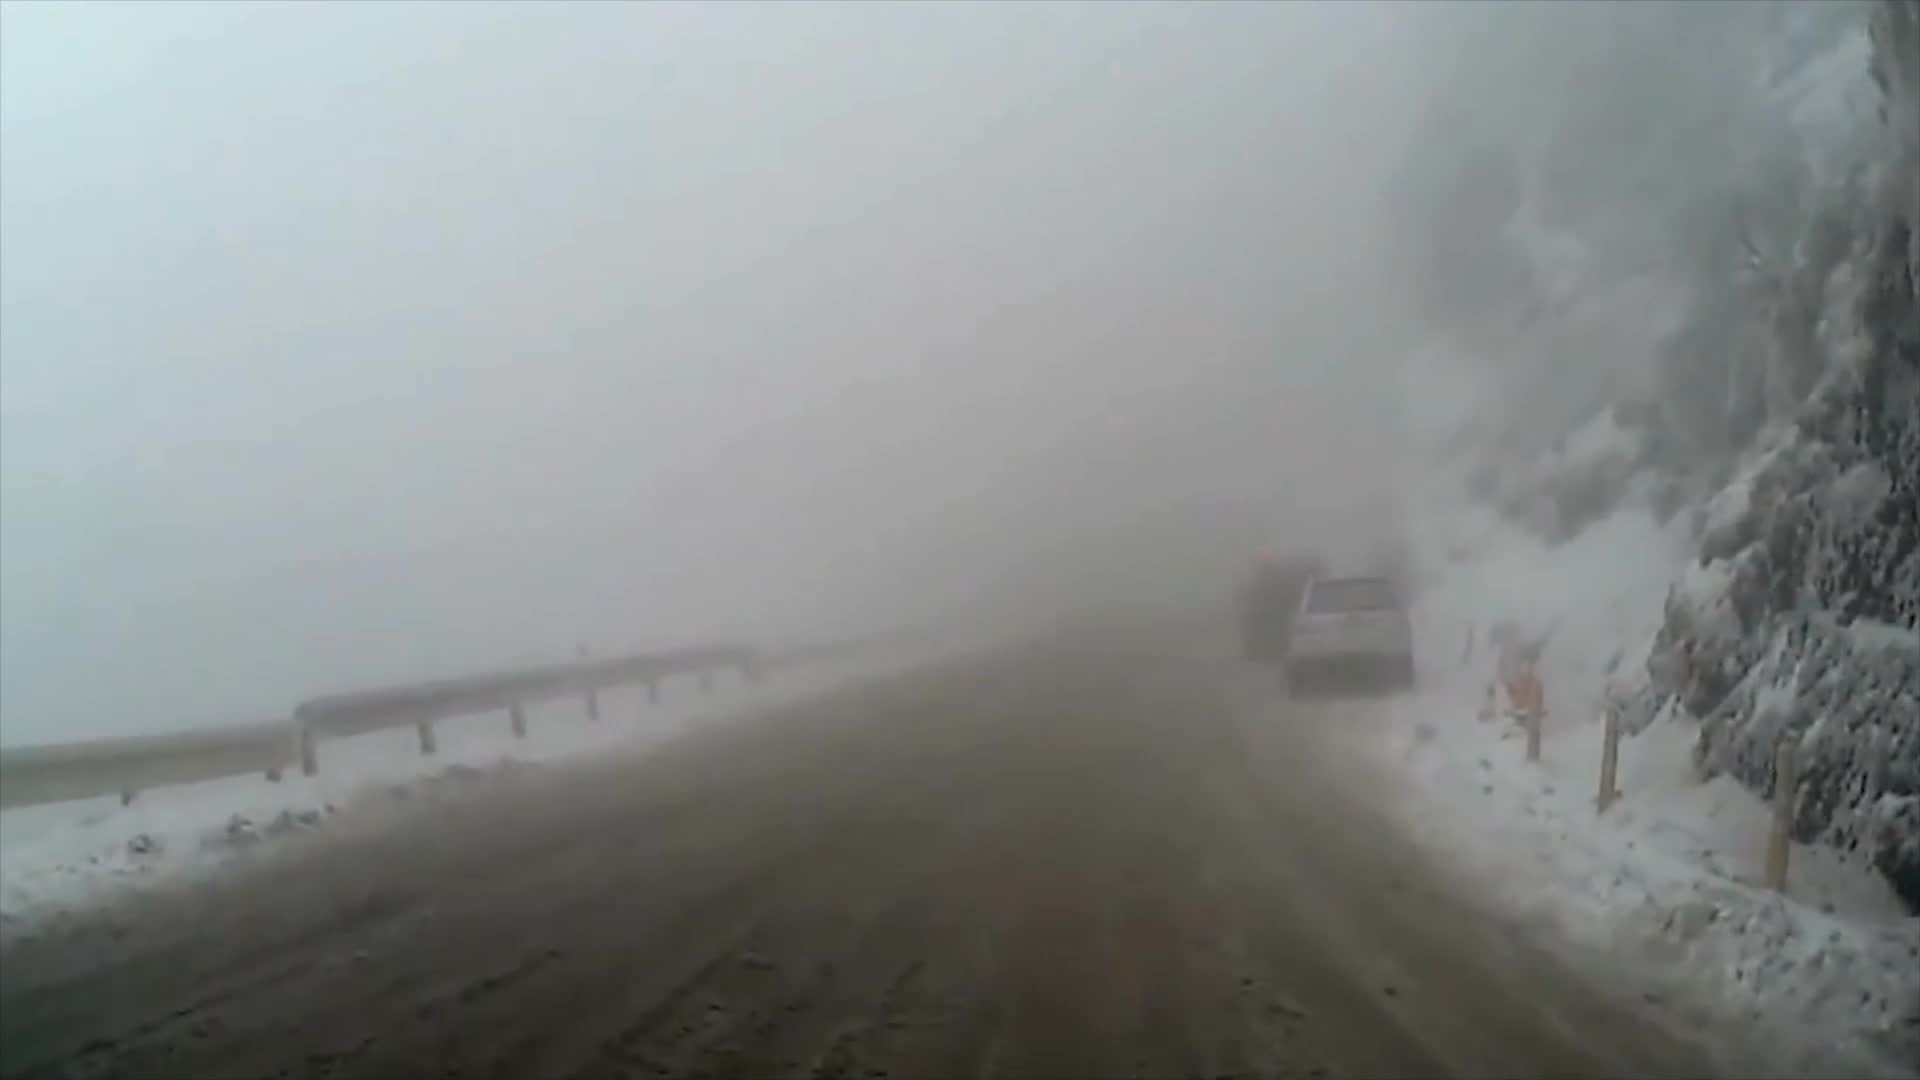vehicle: (1288, 568, 1410, 692), (1230, 553, 1342, 658)
